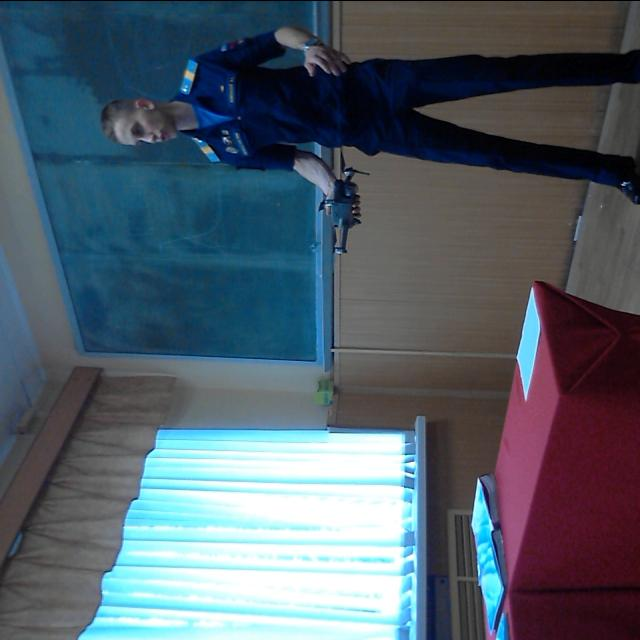drone: (298, 147, 386, 260)
